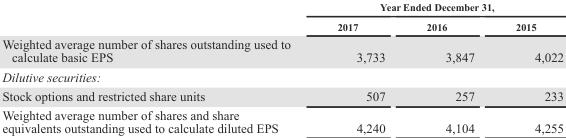table: (1, 0, 563, 135)
table column: (1, 0, 313, 135), (313, 0, 405, 135), (405, 0, 494, 135), (494, 0, 563, 135)
table column header: (1, 0, 563, 34)
table projected row header: (1, 66, 563, 86)
table row: (1, 34, 563, 66), (1, 105, 563, 135), (1, 66, 563, 86), (1, 86, 563, 105), (1, 16, 563, 34), (1, 0, 563, 16)
table spanning cell: (313, 0, 563, 16)
